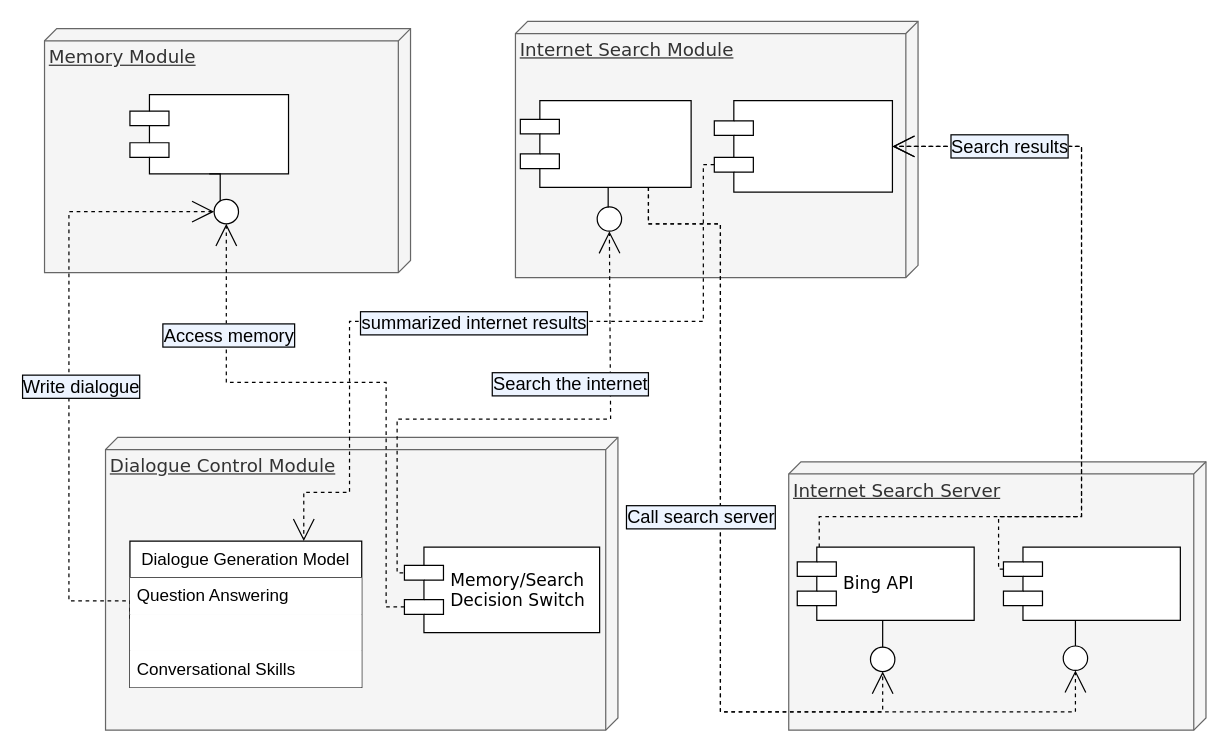
This 1227x755 diagram has some shape labels left out. Here are the shapes that lost their labels. From the top down, the centre of each, then its label:
(x=209, y=133): Long-term memory
(x=605, y=143): Search Query Generator
(x=802, y=145): Search Results Summarizer
(x=1091, y=583): Google API
(x=245, y=632): Intent Detection
